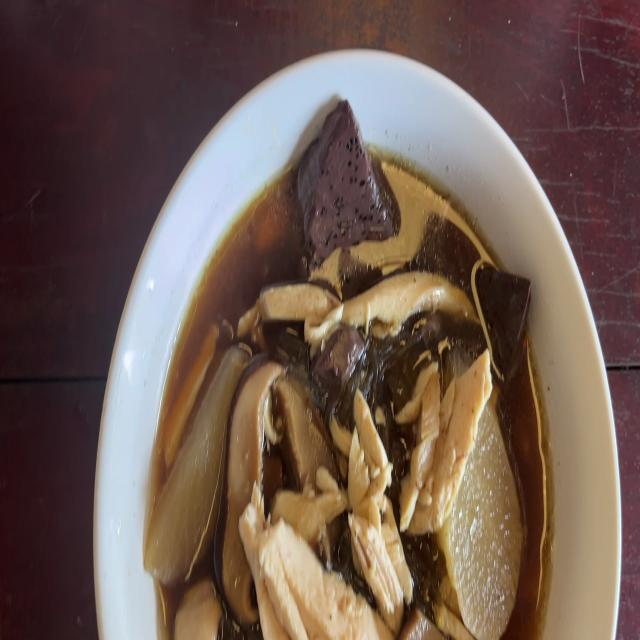noodle: (294, 115, 390, 252), (475, 260, 532, 370), (319, 321, 363, 383)
